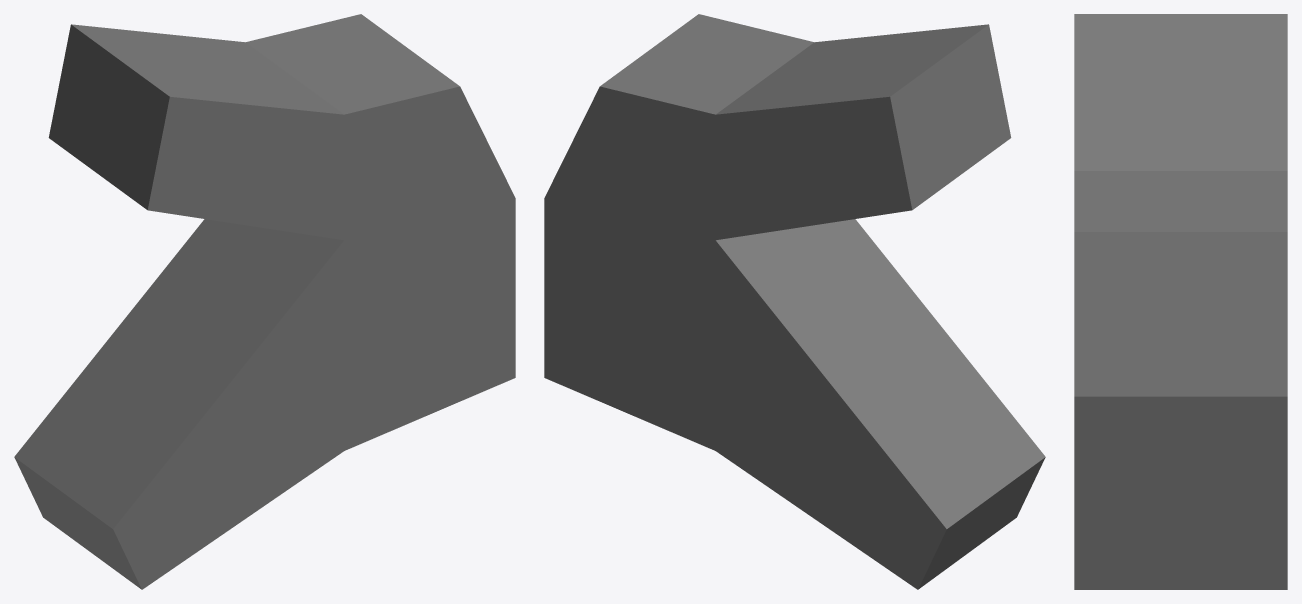
Rendered from SniperRifle5_02_4.fbx.
3 renders of one model, left to right at view 1: azimuth 30°, elevation 25°; view 2: azimuth 150°, elevation 25°; view 3: azimuth 270°, elevation 25°, orthographic. The views are drawn at different scales.
Parts seen in each view (by area): view 1: SniperRifle5_02_4; view 2: SniperRifle5_02_4; view 3: SniperRifle5_02_4.
Boxes of the visible parts, x1,y1,x2,y2 form: SniperRifle5_02_4: (14, 14, 515, 589); SniperRifle5_02_4: (544, 14, 1045, 589); SniperRifle5_02_4: (1074, 14, 1287, 589).
Bounding box in the file's own units: 0.0278 × 0.0321 × 0.0118.
